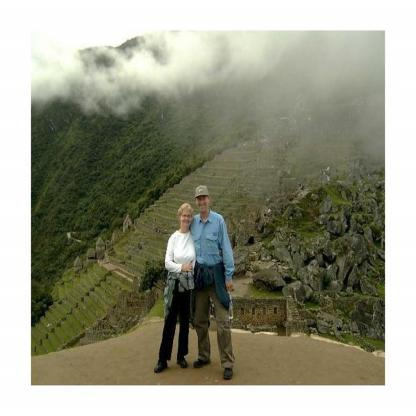face: (197, 195, 209, 212), (182, 211, 192, 228)
